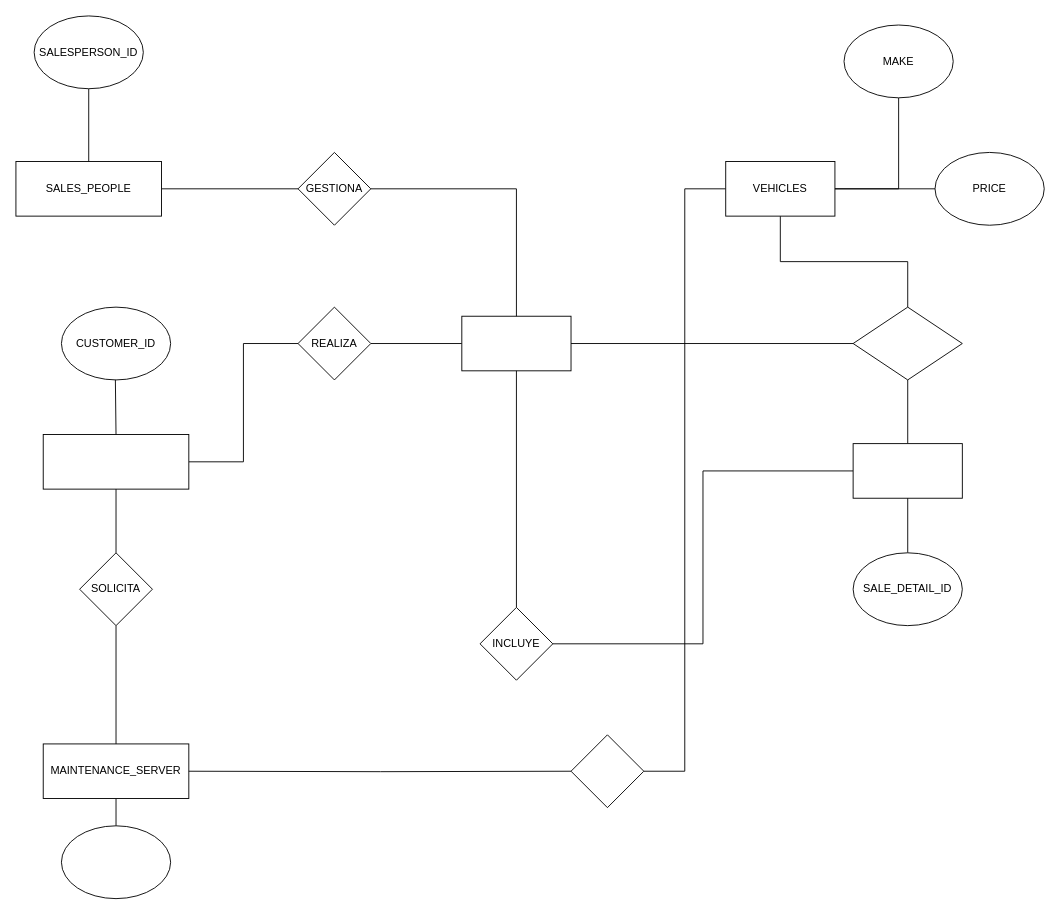
This 1060x915 diagram has some shape labels left out. The shapes that lost their labels are listed below. From the top down, each one's centre as x and y in pixels, then its label:
pixel 516 343: SALES
pixel 907 343: CORRESPONDE
pixel 115 461: CUSTOMERS
pixel 907 470: SALE_DETAILS
pixel 607 771: RECIBE
pixel 116 862: SERVICE_ID
